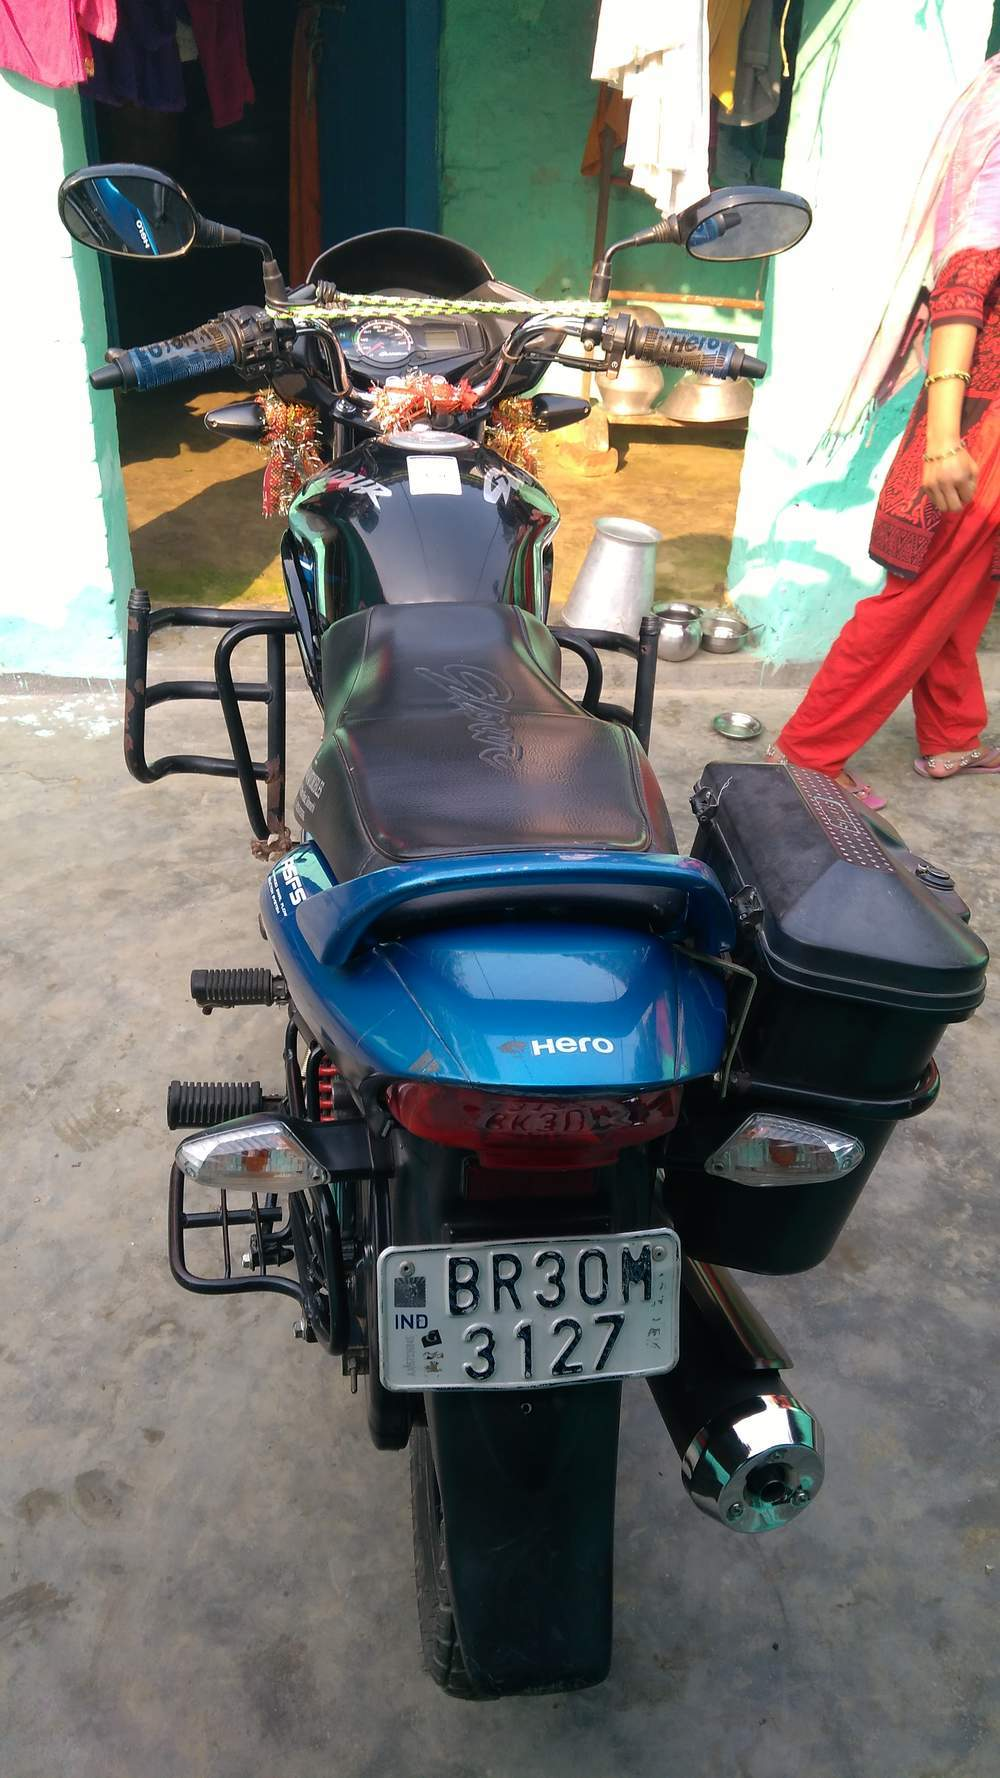number_plate: (366, 1223, 695, 1398)
